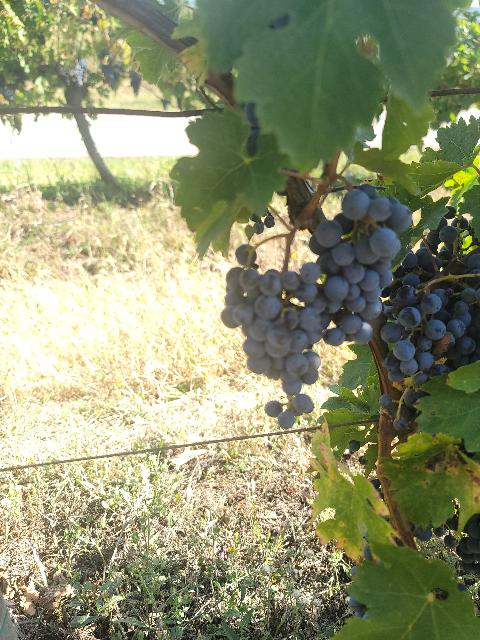grapes: (221, 245, 321, 429), (315, 185, 412, 344)
